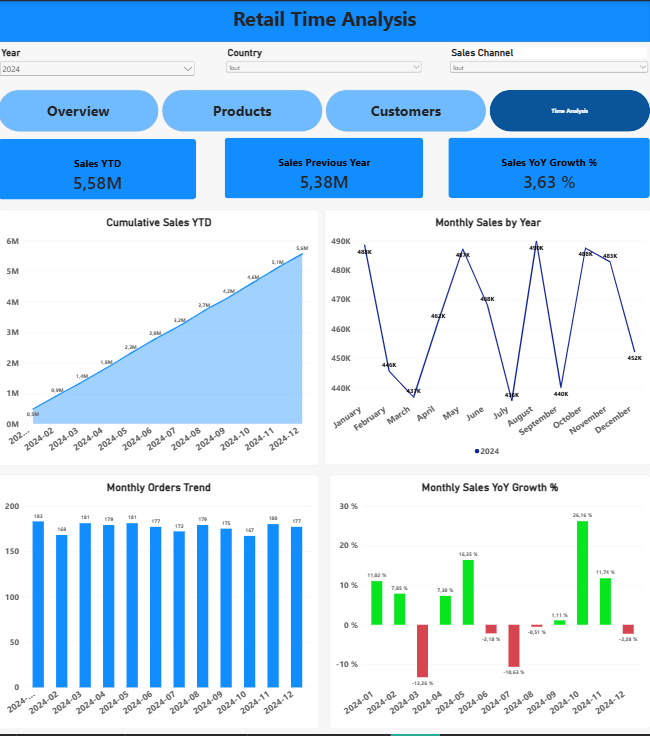

The dashboard page shown, as its layout file describes it:
{"tool":"powerbi","page":{"name":"Time Analysis","canvas":[1600,1800],"ordinal":3},"visuals":[{"type":"shape","box":[0,0,1600.4,100.3],"z":0},{"type":"cardVisual","fields":{"Data":["Measure table.Sales YTD"]},"box":[0,337.2,487.4,150.3],"z":1000},{"type":"cardVisual","fields":{"Data":["Measure table.Sales Previous Year"]},"box":[555.6,335.4,489.2,152],"z":2000},{"type":"cardVisual","fields":{"Data":["Measure table.Sales YoY Growth %"]},"box":[1104.2,335.4,496.2,150.3],"z":3000},{"type":"clusteredColumnChart","title":"Monthly Orders Trend","fields":{"Category":["gold Dim_Date.Year_Month"],"Y":["Measure table.Total Orders"]},"box":[0,1161.8,787.9,623.7],"z":4000},{"type":"slicer","fields":{"Values":["gold Dim_Date.Year"]},"box":[0,113.6,487.4,90.8],"z":5000},{"type":"slicer","fields":{"Values":["gold Dim_Customers.Country"]},"box":[555.6,113.6,489.2,90.8],"z":6000},{"type":"slicer","fields":{"Values":["gold Fact_sales.Sales_Channel"]},"box":[1104.2,113.6,496.2,90.8],"z":7000},{"type":"textbox","box":[456,8.7,688.4,90.8],"z":8000},{"type":"pageNavigator","box":[0,218.4,1600.3,103.1],"z":9000},{"type":"areaChart","title":"Cumulative Sales YTD","fields":{"Category":["gold Dim_Date.Year_Month"],"Y":["Measure table.Sales YTD"]},"box":[0,511.9,787.9,627.2],"z":10000},{"type":"lineChart","title":"Monthly Sales by Year","fields":{"Category":["gold Dim_Date.Month_Name"],"Y":["Measure table.Total Sales"],"Series":["gold Dim_Date.Year"]},"box":[799.3,512.7,802.8,626.6],"z":11000},{"type":"clusteredColumnChart","title":"Monthly Sales YoY Growth %","fields":{"Category":["gold Dim_Date.Year_Month"],"Y":["Measure table.Sales YoY Growth %"]},"box":[813.5,1162.4,787.9,623.7],"z":12000}]}

Visuals, with their boxes in screenshot pixels (x1, y1, x2, y2), scaled from the page's 1600x1800 canvas onto the 650x736 screenshot:
shape: (0, 0, 649, 41)
cardVisual - Measure table.Sales YTD: (0, 138, 198, 199)
cardVisual - Measure table.Sales Previous Year: (226, 137, 424, 199)
cardVisual - Measure table.Sales YoY Growth %: (449, 137, 649, 199)
"Monthly Orders Trend" clusteredColumnChart: (0, 475, 320, 730)
slicer - gold Dim_Date.Year: (0, 46, 198, 84)
slicer - gold Dim_Customers.Country: (226, 46, 424, 84)
slicer - gold Fact_sales.Sales_Channel: (449, 46, 649, 84)
textbox: (185, 4, 465, 41)
pageNavigator: (0, 89, 649, 131)
"Cumulative Sales YTD" areaChart: (0, 209, 320, 466)
"Monthly Sales by Year" lineChart: (325, 210, 649, 466)
"Monthly Sales YoY Growth %" clusteredColumnChart: (330, 475, 649, 730)
